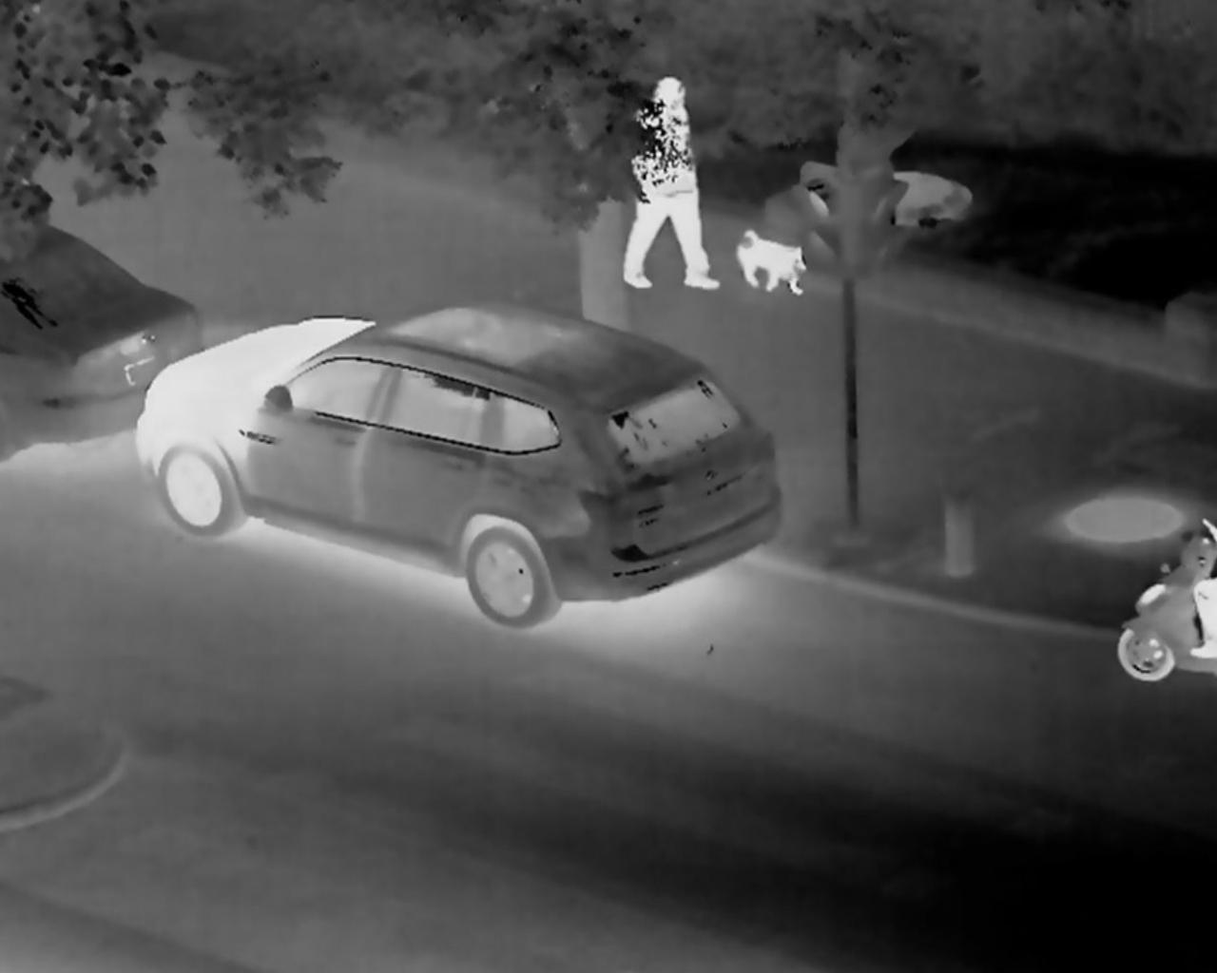person: (635, 78, 718, 299)
